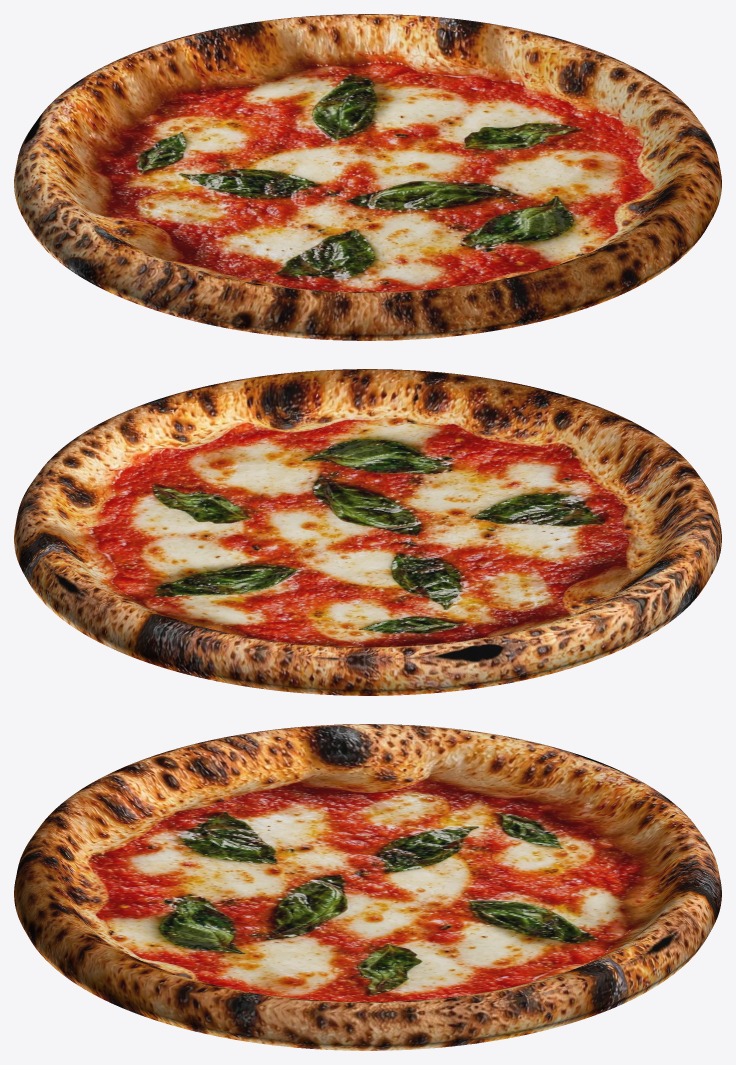
The model's file is margherita.glb.
3 views of the same model, one above another, from view 1: azimuth 30°, elevation 25°; view 2: azimuth 150°, elevation 25°; view 3: azimuth 270°, elevation 25° (orthographic).
Bounding box in the file's own units: 0.3 × 0.0192 × 0.3.
Materials: 1 (1 with a texture image).
